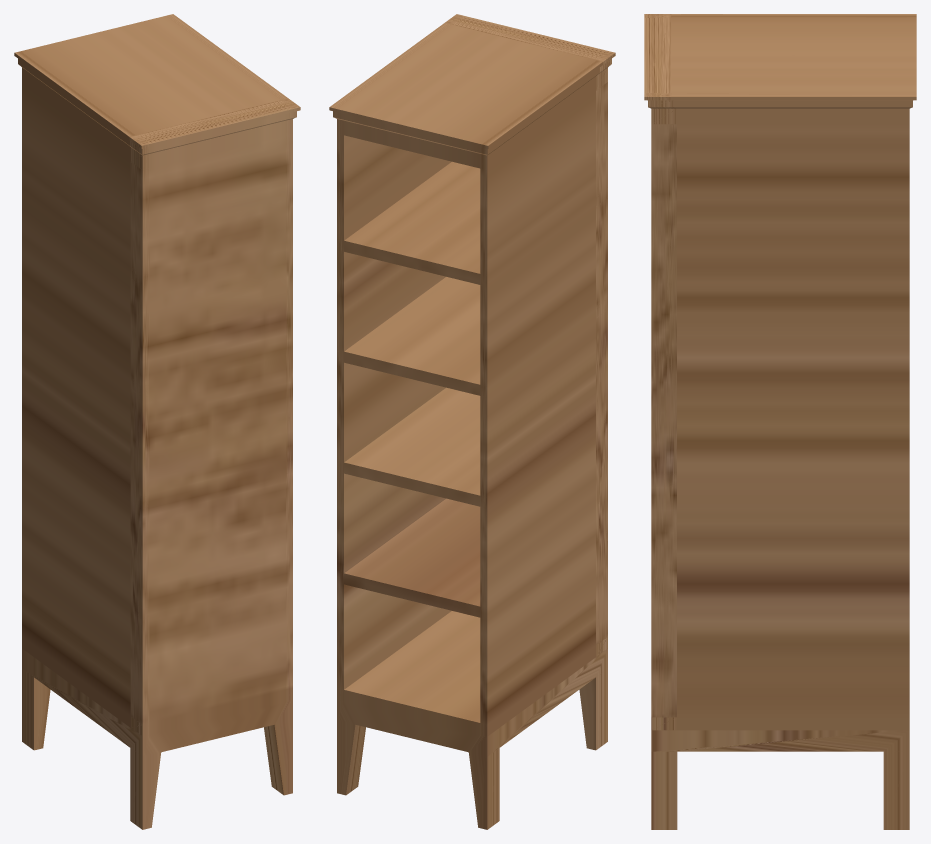
Rendered from Mueble3.fbx.
3 renders of one model, left to right at view 1: azimuth 30°, elevation 25°; view 2: azimuth 150°, elevation 25°; view 3: azimuth 270°, elevation 25°, orthographic. The views are drawn at different scales.
Visible parts, largest first — view 1: pCube3; view 2: pCube3; view 3: pCube3.
Part boxes in pixels (bbox=[...]): pCube3: bbox=[14, 14, 300, 829]; pCube3: bbox=[329, 14, 615, 829]; pCube3: bbox=[644, 14, 916, 829].
Bounding box in the file's own units: 3.76 × 15.57 × 5.23.
